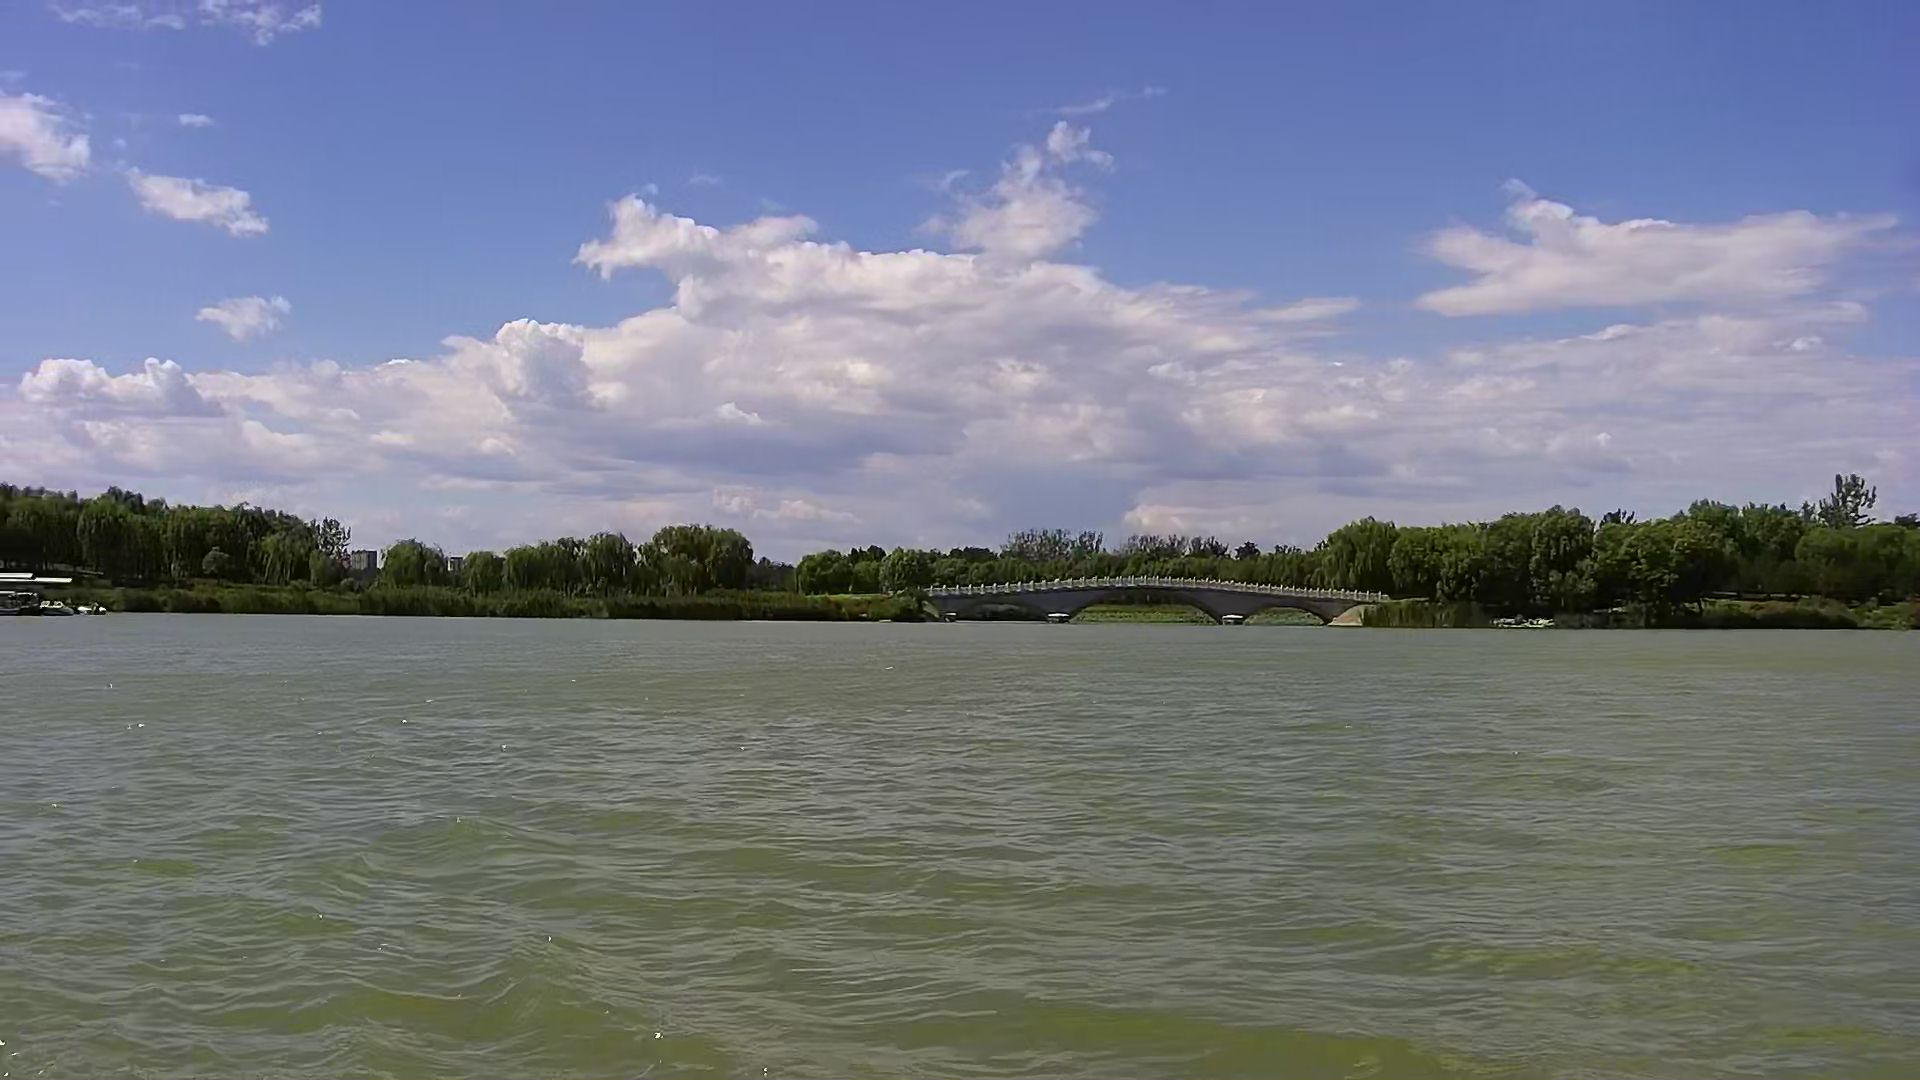bridge: (914, 562, 1400, 638)
